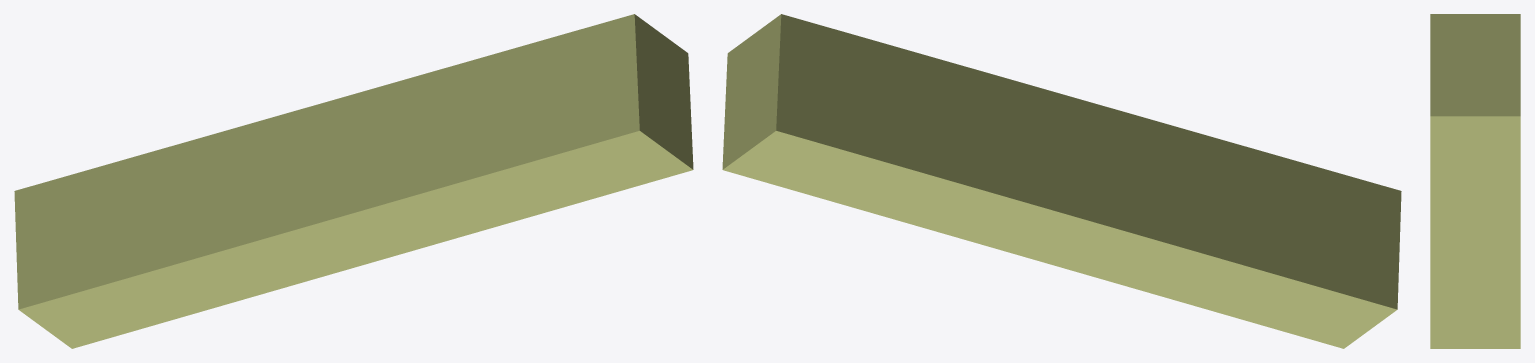
3 renders of one model, left to right at view 1: azimuth 30°, elevation 25°; view 2: azimuth 150°, elevation 25°; view 3: azimuth 270°, elevation 25°, orthographic. The views are drawn at different scales.
Visible parts, largest first — view 1: 0_2_1_0_0_3_3_0; view 2: 0_2_1_0_0_3_3_0; view 3: 0_2_1_0_0_3_3_0.
Boxes of the visible parts, bbox=[...] form: 0_2_1_0_0_3_3_0: bbox=[14, 14, 693, 348]; 0_2_1_0_0_3_3_0: bbox=[722, 14, 1401, 348]; 0_2_1_0_0_3_3_0: bbox=[1430, 14, 1520, 348].
Bounding box in the file's own units: 40.33 × 8.96 × 6.
